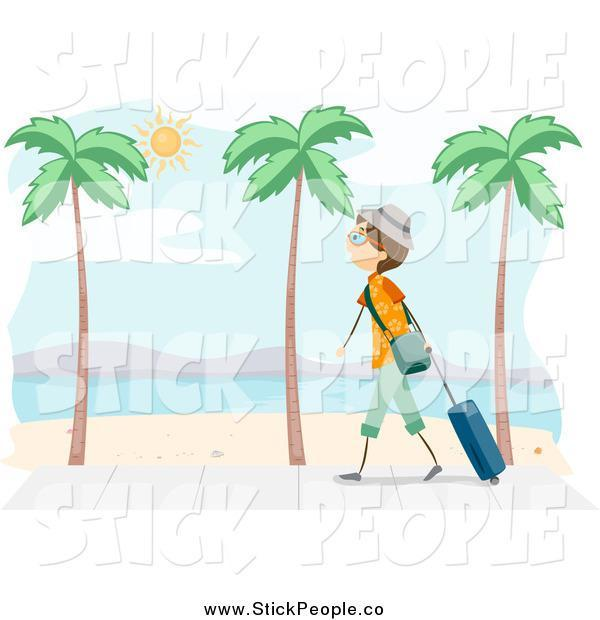person: (331, 201, 458, 479)
